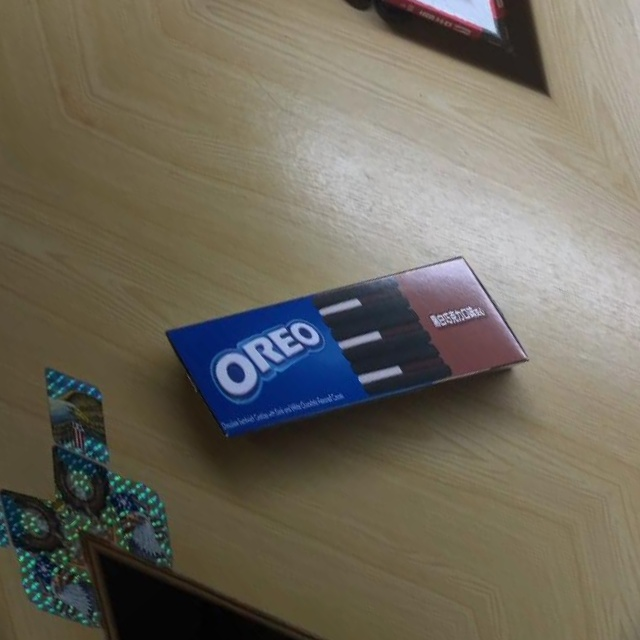Oreo: (147, 153, 542, 542)
